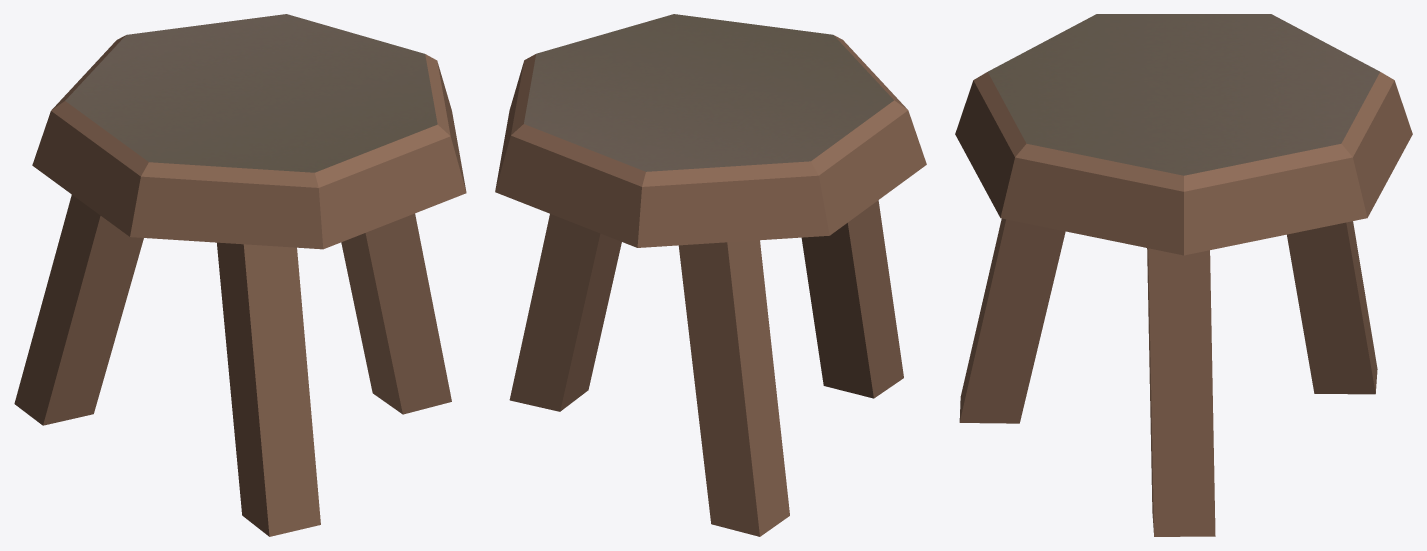
Rendered from Stool_1.fbx.
3 renders of one model, left to right at view 1: azimuth 30°, elevation 25°; view 2: azimuth 150°, elevation 25°; view 3: azimuth 270°, elevation 25°, orthographic. The views are drawn at different scales.
Visible parts, largest first — view 1: polySurface1319; view 2: polySurface1319; view 3: polySurface1319.
Boxes of the visible parts, box(x1,y1,x2,y2) form: polySurface1319: box(14, 14, 466, 536); polySurface1319: box(495, 14, 926, 536); polySurface1319: box(955, 14, 1412, 536).
Size of the model in its own units: 73.42 by 64.41 by 75.31.
